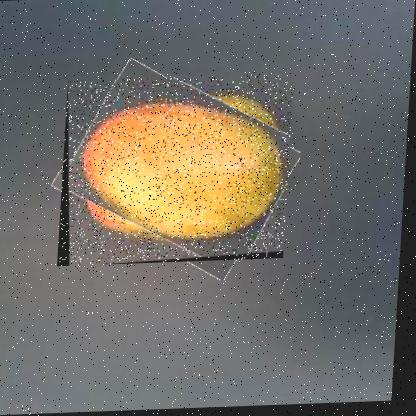mango: (60, 74, 296, 267)
